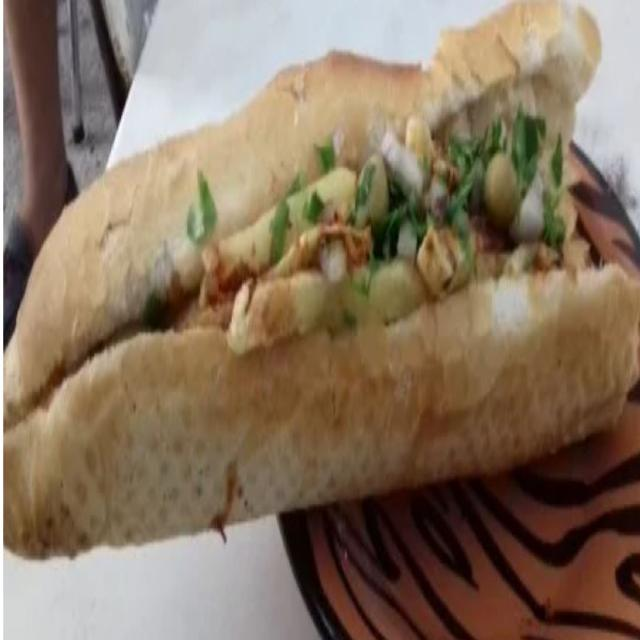Sandwitch tounsi: (25, 18, 603, 527)
